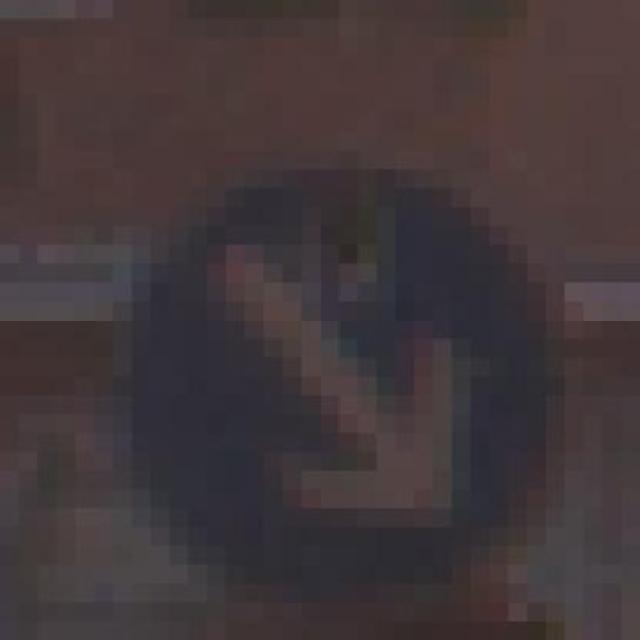Keep-Right: (93, 132, 564, 620)
